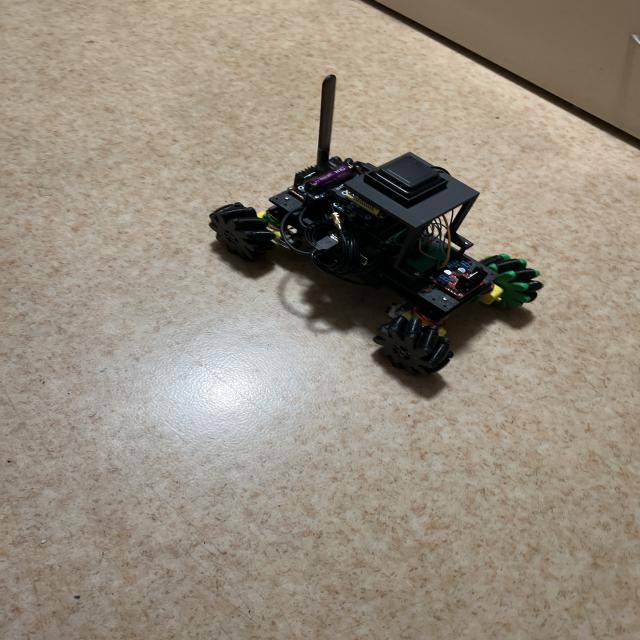robot: (209, 75, 542, 374)
